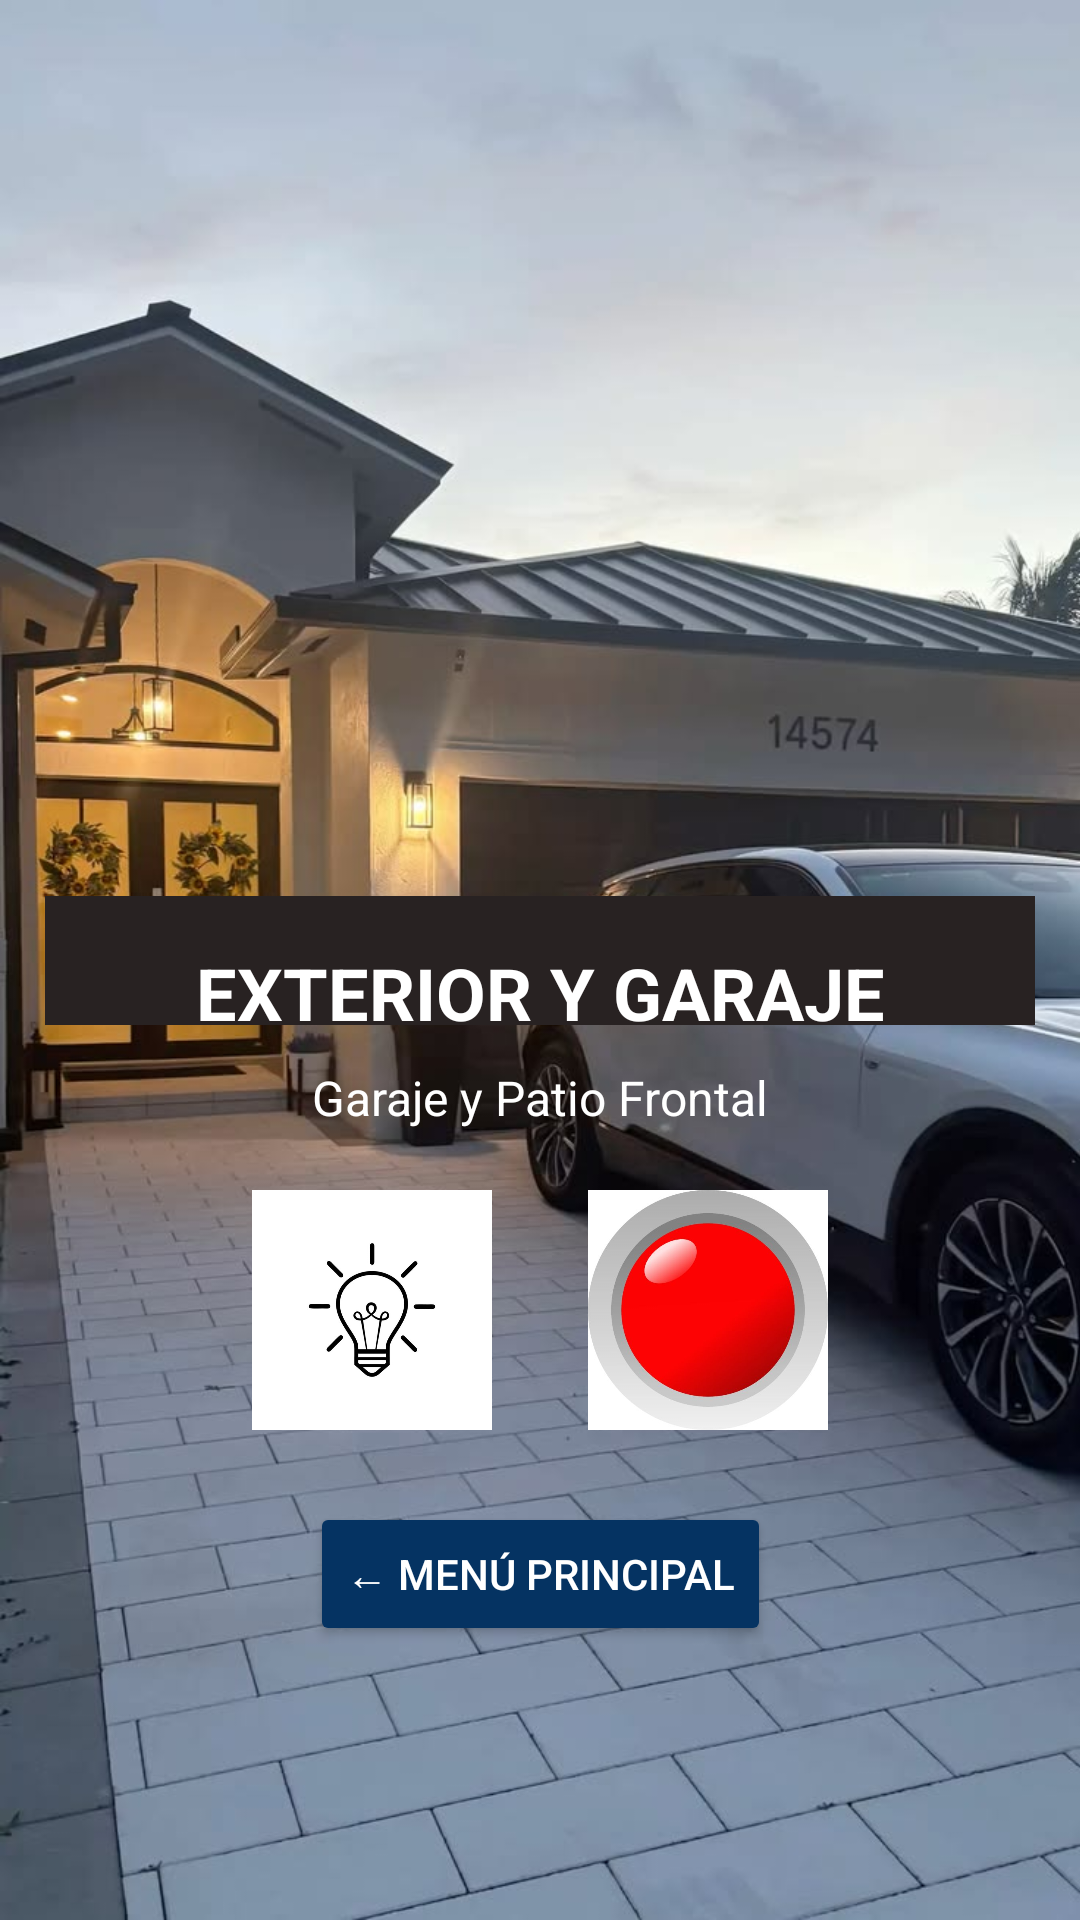

Named icons in this screenshot (1080 x 1920) and their centers, [x,y]:
Foco Garaje: [372,1310]
